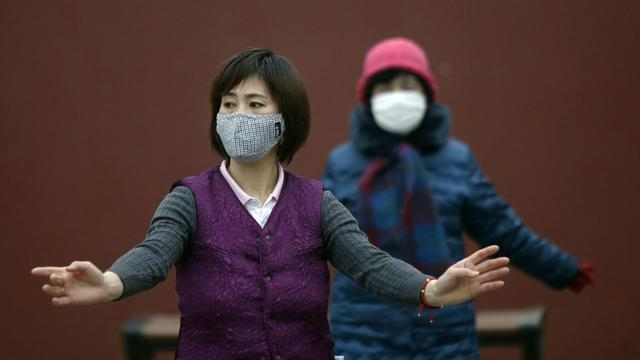mask: (215, 113, 284, 158), (368, 97, 428, 137)
